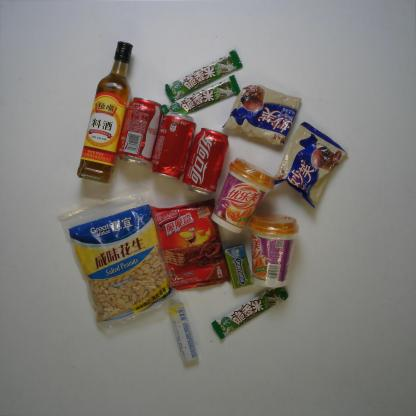Candy: (166, 301, 199, 364)
Chocolate: (211, 284, 289, 339), (163, 49, 243, 102), (162, 75, 240, 122)
Dessert: (149, 198, 231, 291), (273, 121, 348, 209), (223, 86, 303, 150)
Dried Fruit: (58, 190, 177, 328)
Drink: (116, 96, 162, 168), (150, 110, 197, 179), (182, 127, 229, 195)
Gum: (224, 242, 254, 290)
Instant Drink: (211, 157, 276, 233), (249, 212, 300, 289)
Seasoner: (74, 40, 136, 184)
